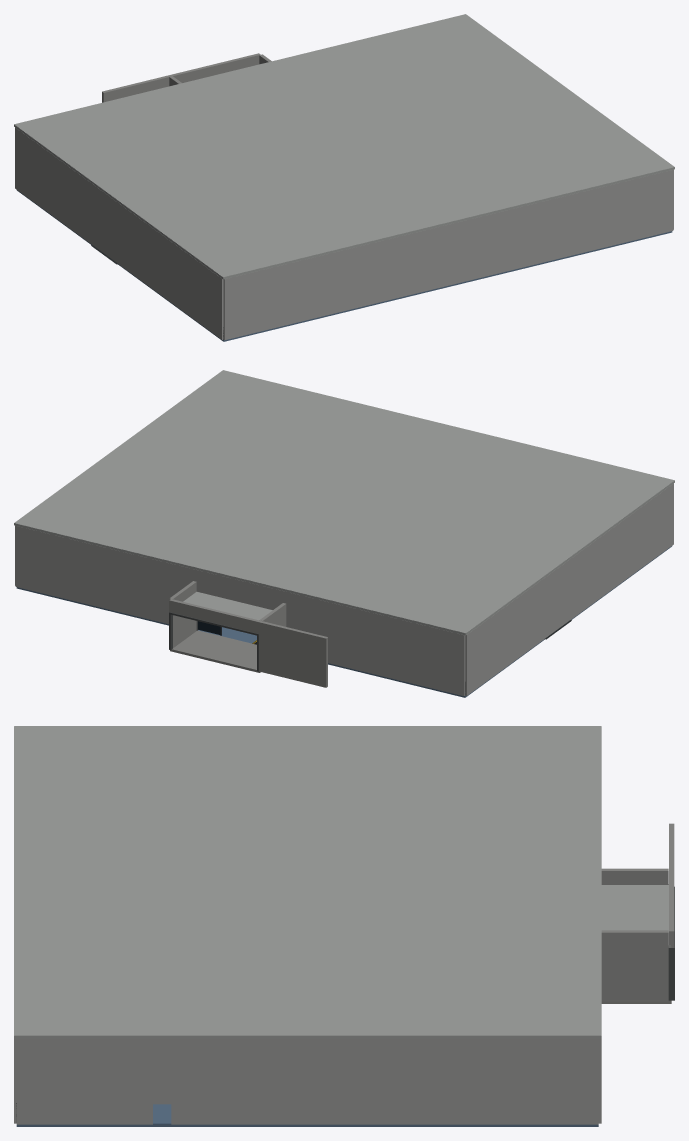
File: reception_r4.glb
3 renders of one model, top to bottom at view 1: azimuth 30°, elevation 25°; view 2: azimuth 150°, elevation 25°; view 3: azimuth 270°, elevation 25°, orthographic. The views are drawn at different scales.
Parts seen in each view (by area): view 1: KIT_REC01_Ceiling_Slab, SM_L1_Zone01_Reception_Wall_S_0, SM_L1_Zone01_Reception_Wall_W_0, SM_L1_Zone01_Reception_Floor, SM_L1_Corridor_Main_Wall_S_1, SM_L1_Corridor_Main_Wall_S_0; view 2: KIT_REC01_Ceiling_Slab, SM_L1_Zone01_Reception_Wall_W_0, SM_L1_Zone01_Reception_Wall_N_2, SM_L1_Zone01_Reception_Wall_N_0, SM_L1_Corridor_Main_Wall_S_0, SM_L1_Conn_ReceptionVestibule_Floor, SM_L1_Zone01_Reception_Wall_N_1, SM_L1_Corridor_Main_Wall_S_1, SM_L1_Zone01_Reception_Floor, KIT_REC01_Vestibule_Ceiling, SM_L1_Conn_ReceptionVestibule_Wall_E_0; view 3: KIT_REC01_Ceiling_Slab, SM_L1_Zone01_Reception_Wall_E_2, SM_L1_Zone01_Reception_Wall_E_0, SM_L1_Conn_ReceptionVestibule_Wall_E_0, KIT_REC01_Vestibule_Ceiling, SM_L1_Zone01_Reception_Floor, SM_L1_Zone01_Reception_Wall_E_1, SM_L1_Conn_ReceptionVestibule_Wall_W_0.
Part boxes in pixels (<box>): KIT_REC01_Ceiling_Slab: <box>14,14,674,279</box>; SM_L1_Zone01_Reception_Wall_S_0: <box>223,170,673,339</box>; SM_L1_Zone01_Reception_Wall_W_0: <box>15,127,223,339</box>; SM_L1_Zone01_Reception_Floor: <box>17,190,672,341</box>; SM_L1_Corridor_Main_Wall_S_1: <box>169,53,260,82</box>; SM_L1_Corridor_Main_Wall_S_0: <box>102,75,170,102</box>; KIT_REC01_Ceiling_Slab: <box>14,370,674,635</box>; SM_L1_Zone01_Reception_Wall_W_0: <box>465,483,673,695</box>; SM_L1_Zone01_Reception_Wall_N_2: <box>15,526,194,623</box>; SM_L1_Zone01_Reception_Wall_N_0: <box>284,591,465,695</box>; SM_L1_Corridor_Main_Wall_S_0: <box>259,621,327,687</box>; SM_L1_Conn_ReceptionVestibule_Floor: <box>170,630,260,672</box>; SM_L1_Zone01_Reception_Wall_N_1: <box>195,569,284,609</box>; SM_L1_Corridor_Main_Wall_S_1: <box>169,599,260,633</box>; SM_L1_Zone01_Reception_Floor: <box>16,546,671,697</box>; KIT_REC01_Vestibule_Ceiling: <box>183,592,272,620</box>; SM_L1_Conn_ReceptionVestibule_Wall_E_0: <box>169,581,196,647</box>; KIT_REC01_Ceiling_Slab: <box>14,726,601,1038</box>; SM_L1_Zone01_Reception_Wall_E_2: <box>171,1039,598,1124</box>; SM_L1_Zone01_Reception_Wall_E_0: <box>16,1039,152,1124</box>; SM_L1_Conn_ReceptionVestibule_Wall_E_0: <box>601,930,668,1001</box>; KIT_REC01_Vestibule_Ceiling: <box>601,884,671,947</box>; SM_L1_Zone01_Reception_Floor: <box>16,1104,598,1126</box>; SM_L1_Zone01_Reception_Wall_E_1: <box>153,1039,171,1104</box>; SM_L1_Conn_ReceptionVestibule_Wall_W_0: <box>601,868,668,884</box>.
Size of the model in its own units: 40.45 by 5.6 by 36.34.
Materials: 30 (12 with a texture image).
